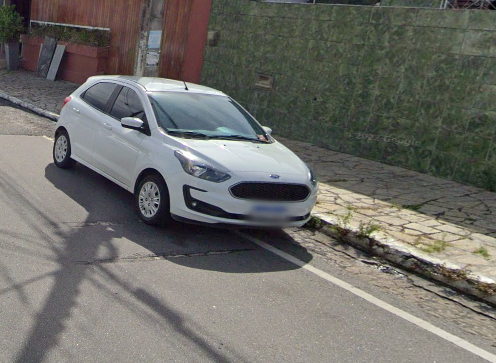car: (49, 60, 325, 241)
